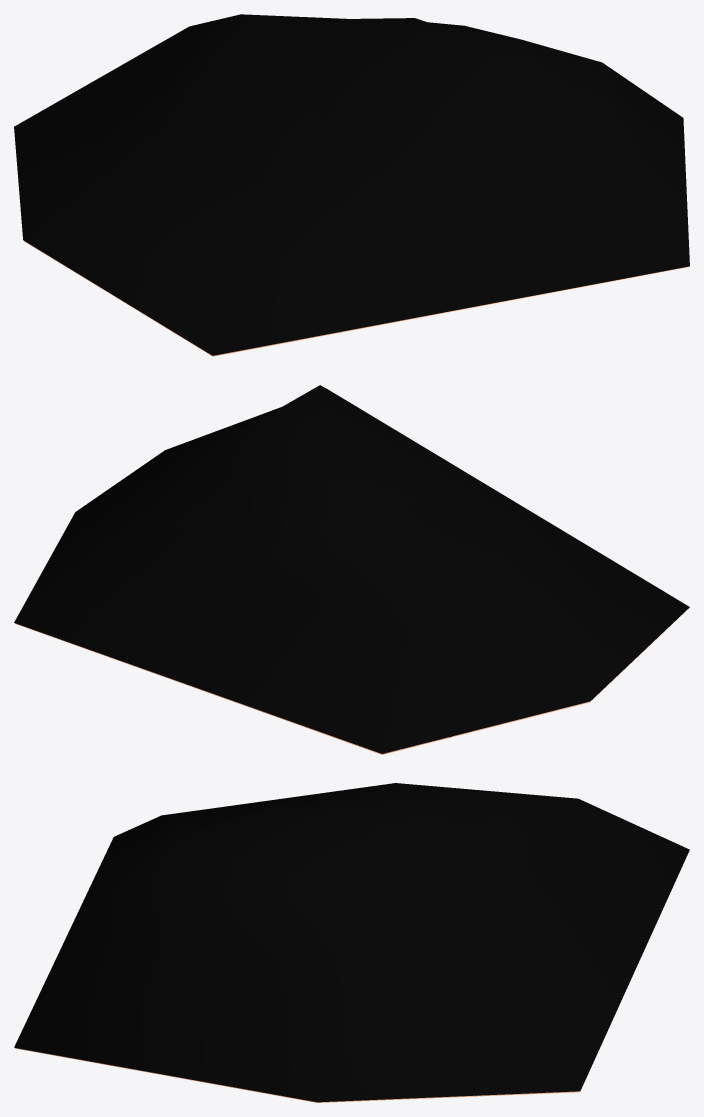
The model's file is Rooms_Paradise_08_A_SandDune_Art.fbx.
The picture shows the model from 3 angles, top to bottom: view 1: azimuth 30°, elevation 25°; view 2: azimuth 150°, elevation 25°; view 3: azimuth 270°, elevation 25°; orthographic projection. The views are drawn at different scales.
Visible parts, largest first — view 1: Rooms_Paradise_08_A_SandDune_Outliner, Rooms_Paradise_08_A_SandDune_Art; view 2: Rooms_Paradise_08_A_SandDune_Outliner, Rooms_Paradise_08_A_SandDune_Art; view 3: Rooms_Paradise_08_A_SandDune_Outliner, Rooms_Paradise_08_A_SandDune_Art.
Part boxes in pixels (x1,y1,x2,y2): Rooms_Paradise_08_A_SandDune_Outliner: [14, 14, 689, 355]; Rooms_Paradise_08_A_SandDune_Art: [24, 241, 688, 356]; Rooms_Paradise_08_A_SandDune_Outliner: [14, 385, 689, 753]; Rooms_Paradise_08_A_SandDune_Art: [15, 608, 688, 754]; Rooms_Paradise_08_A_SandDune_Outliner: [14, 783, 689, 1102]; Rooms_Paradise_08_A_SandDune_Art: [15, 1048, 579, 1102].
Bounding box in the file's own units: 357 × 101 × 316.
